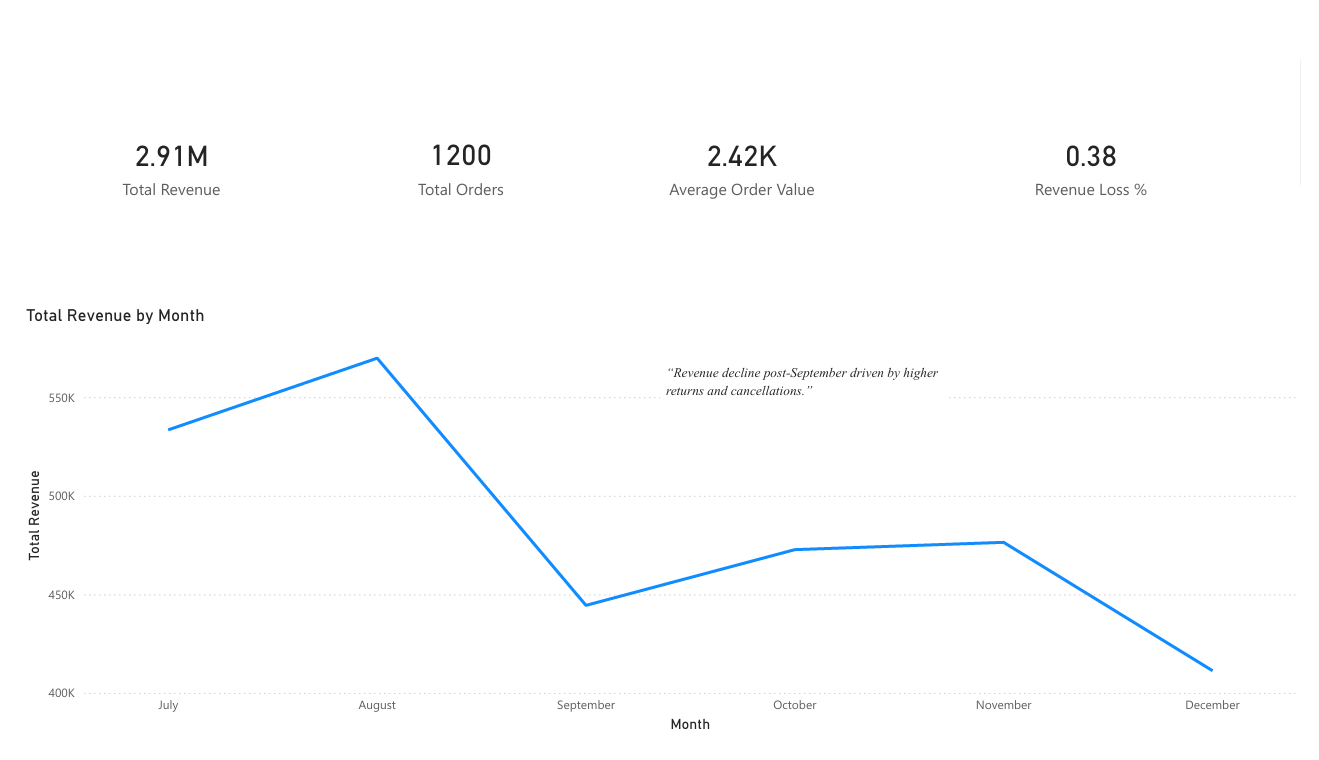

This screenshot's page, from the dashboard's own definition file:
{"tool":"powerbi","page":{"name":"Page 1","canvas":[1280,720],"ordinal":0},"visuals":[{"type":"card","fields":{"Values":["revenue_decline_orders.Total Revenue"]},"box":[0,0,300.7,281.4],"z":0},{"type":"card","fields":{"Values":["revenue_decline_orders.Average Order Value"]},"box":[582.2,0,277.6,281.4],"z":1},{"type":"card","fields":{"Values":["revenue_decline_orders.Revenue Loss %"]},"box":[859.8,0,420.2,281.4],"z":2},{"type":"card","fields":{"Values":["revenue_decline_orders.Total Orders"]},"box":[300,0,280,280],"z":3},{"type":"lineChart","fields":{"Y":["revenue_decline_orders.Total Revenue"],"Category":["revenue_decline_orders.order_date.Variation.Date Hierarchy.Month"]},"box":[0,281.4,1280,431.8],"z":4},{"type":"textbox","box":[639.5,333.8,286.1,67.3],"z":5}]}

Visuals, with their boxes in screenshot pixels (x1, y1, x2, y2), scaled from the page's 1280x720 canvas onto the 1319x760 screenshot:
card - revenue_decline_orders.Total Revenue: [0,0,310,297]
card - revenue_decline_orders.Average Order Value: [600,0,886,297]
card - revenue_decline_orders.Revenue Loss %: [886,0,1318,297]
card - revenue_decline_orders.Total Orders: [309,0,598,296]
lineChart - revenue_decline_orders.Total Revenue x revenue_decline_orders.order_date.Variation.Date Hierarchy.Month: [0,297,1318,753]
textbox: [659,352,954,423]
